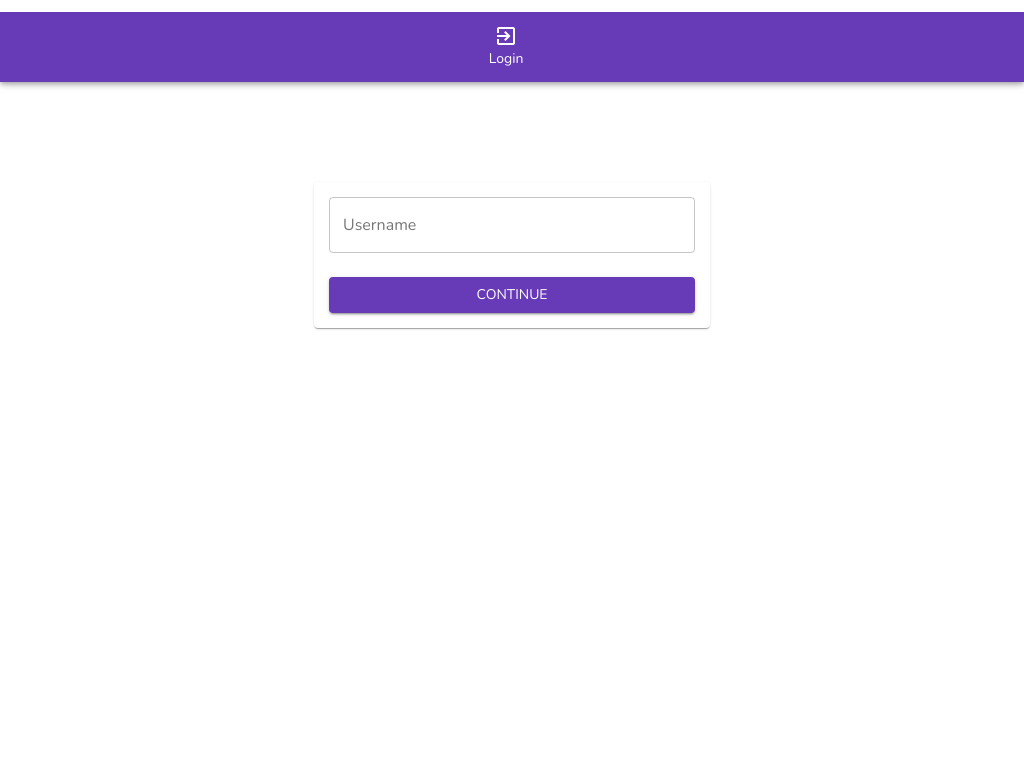
Login ok › load login with error
What coordinates should you click on to do the following:
click the button "Continue"
I would click on:
 (512, 296)
Its box is [329,277,695,314].
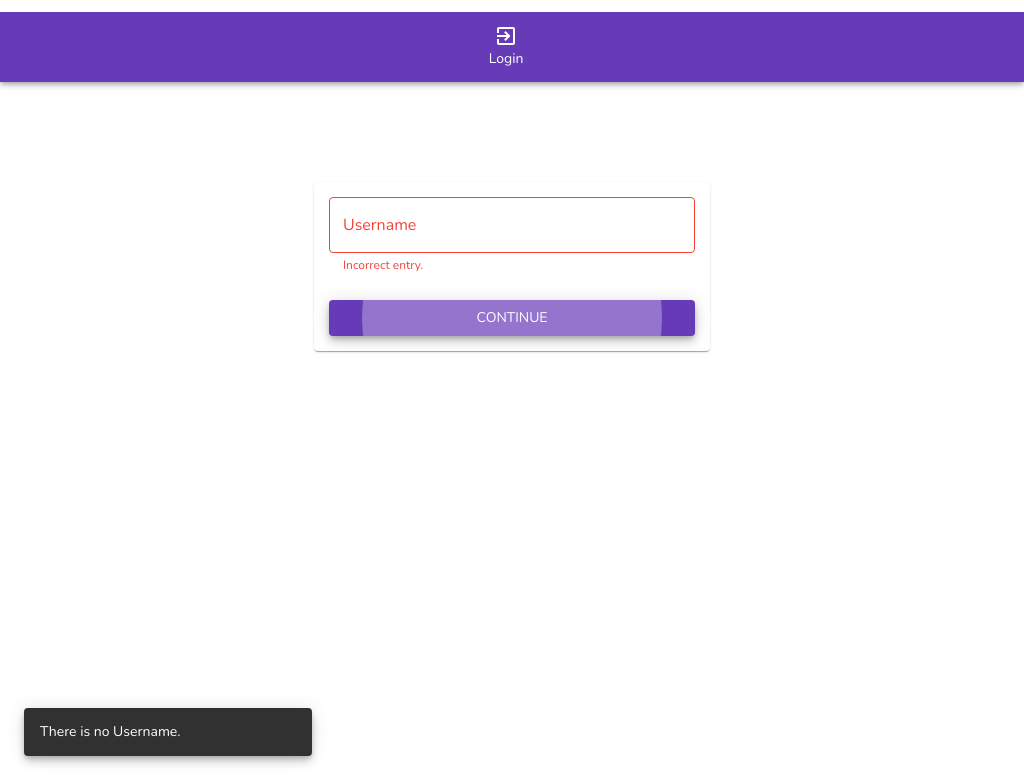
Result: the text "Incorrect entry." is shown at [343,257,423,273]
